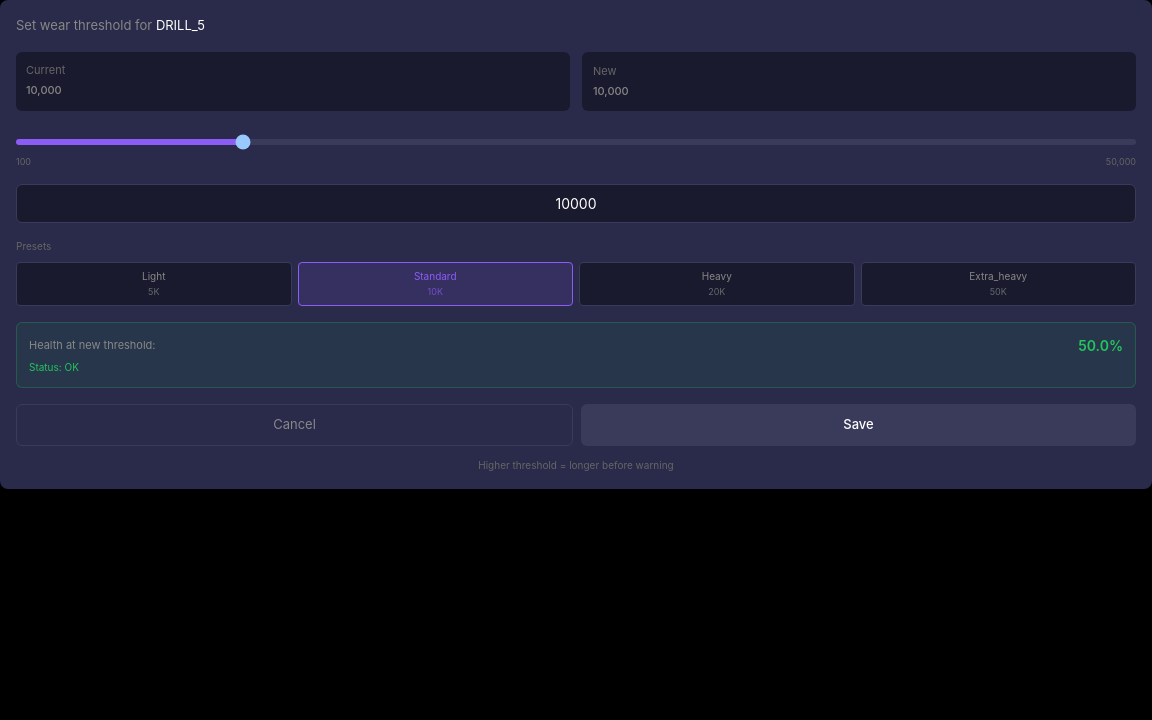
ToolThresholdEditor › Preset buttons › sets HEAVY preset value when clicked
The width and height of the screenshot is (1152, 720).
Click the button "Heavy20K": click(717, 284) [579,262,854,306]
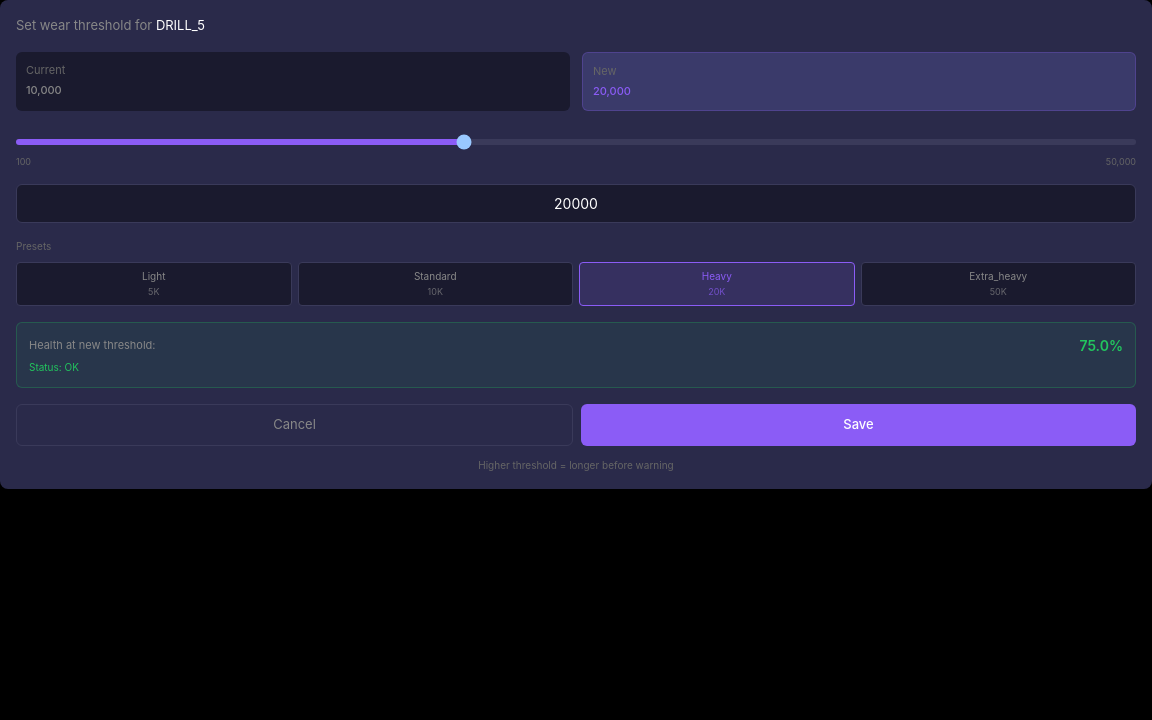
Now the field holds "20000", box [16,184,1136,223]
